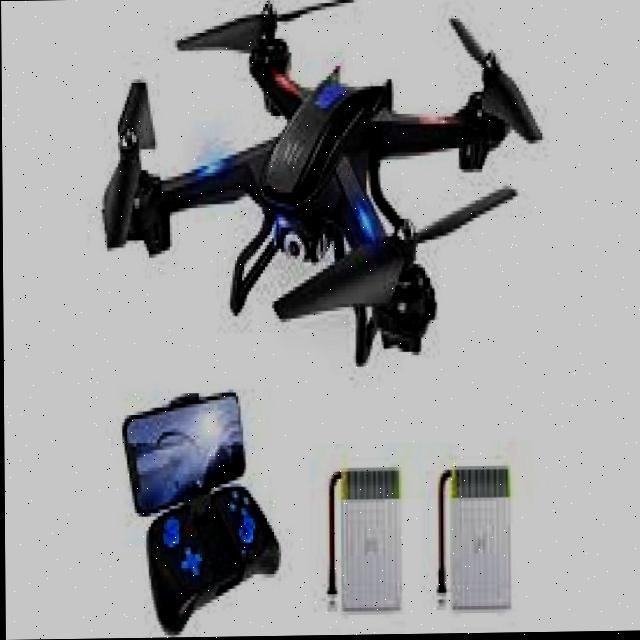drone: (68, 0, 554, 377)
